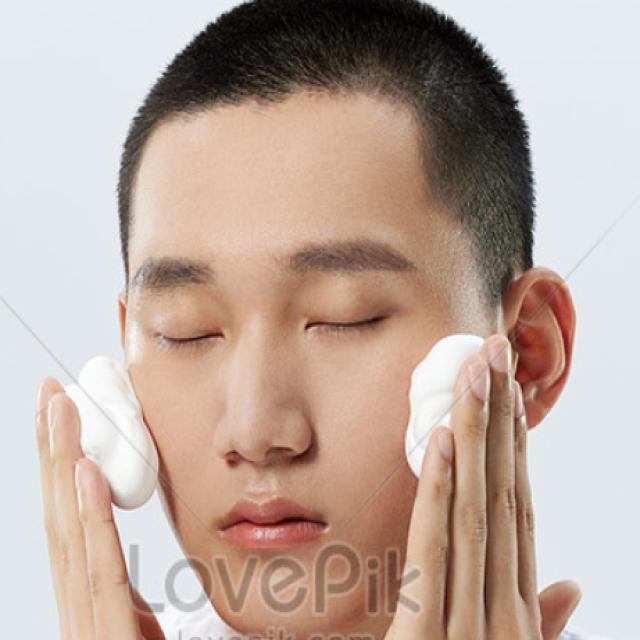close: (288, 221, 429, 364), (124, 241, 246, 371)
